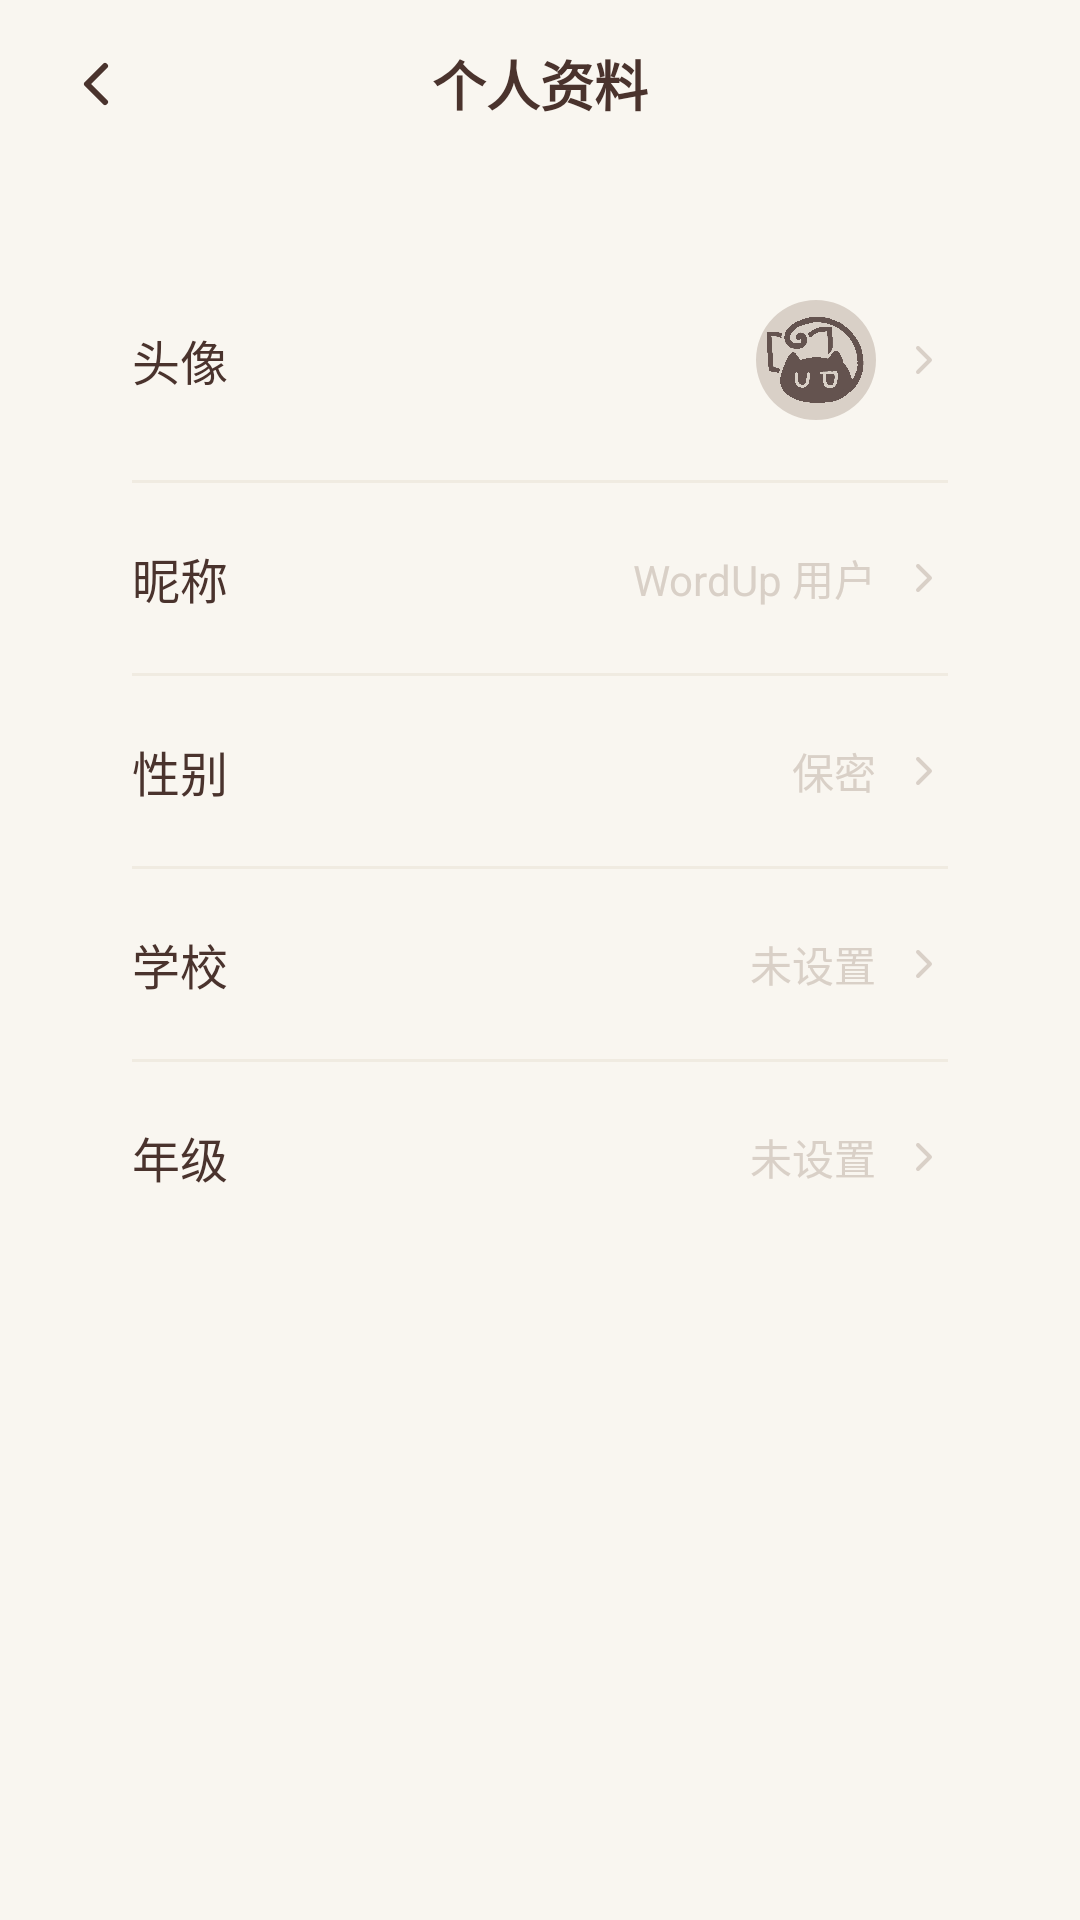

Icon bounding boxes for this 1080px×1920px phone screenshot, format (x1, y1, x2, y2):
arrow back: (84, 63, 108, 105)
arrow right: (916, 346, 932, 374), (916, 564, 932, 592), (916, 757, 932, 785), (916, 950, 932, 978), (916, 1143, 932, 1171)
